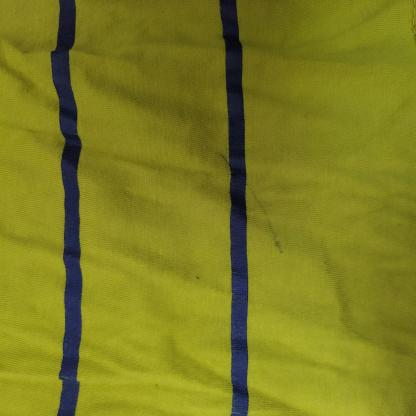spot: (217, 148, 293, 263), (181, 119, 219, 160), (190, 271, 208, 283)
